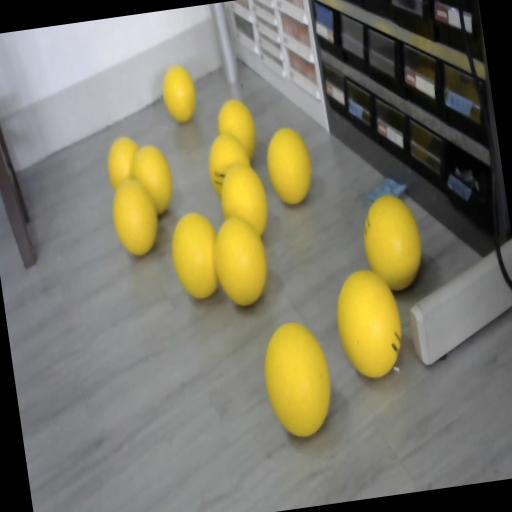FUEL: (256, 316, 338, 440), (330, 264, 408, 382), (358, 192, 428, 294), (166, 210, 225, 303), (108, 176, 163, 259), (262, 124, 316, 208), (216, 161, 272, 241), (214, 96, 260, 164), (159, 62, 199, 124), (104, 135, 144, 191)
